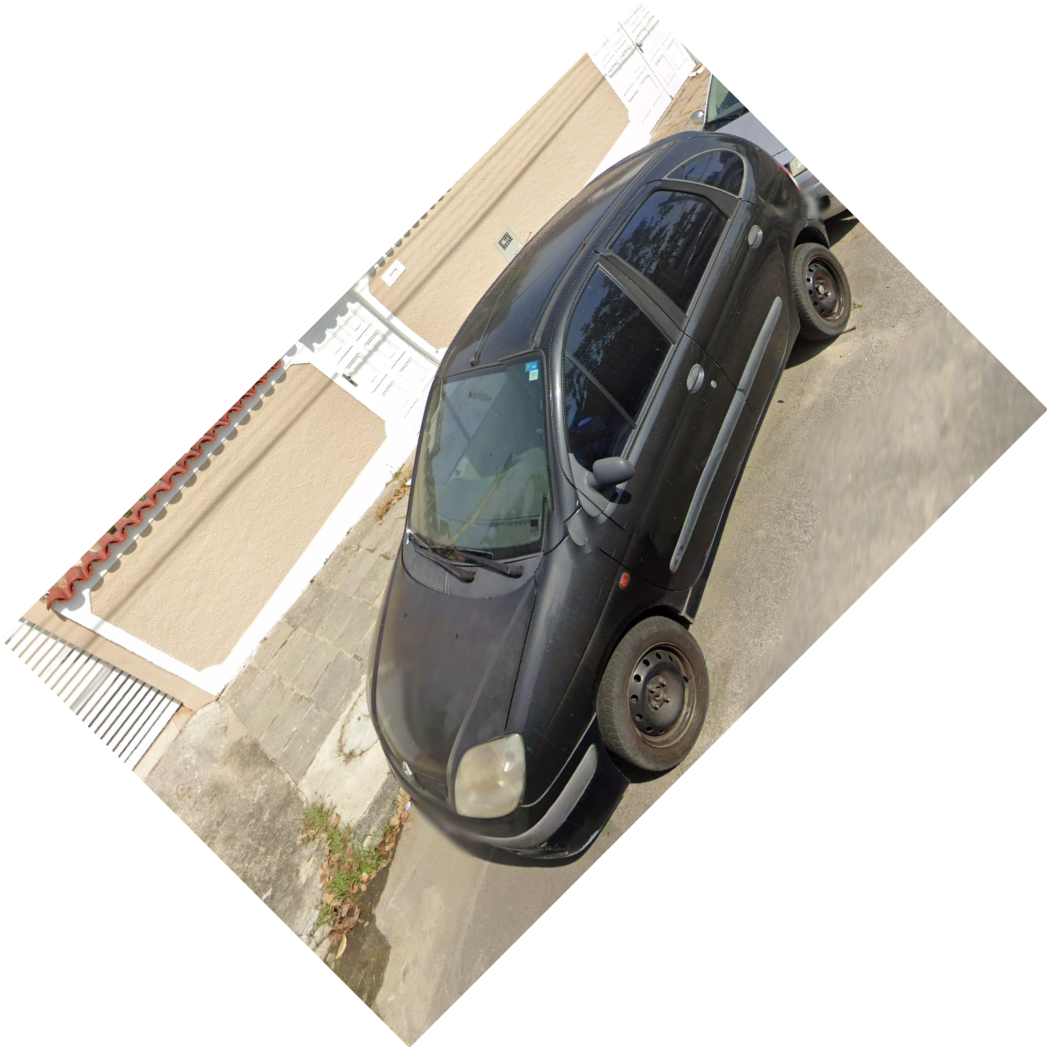car: (361, 131, 853, 870)
